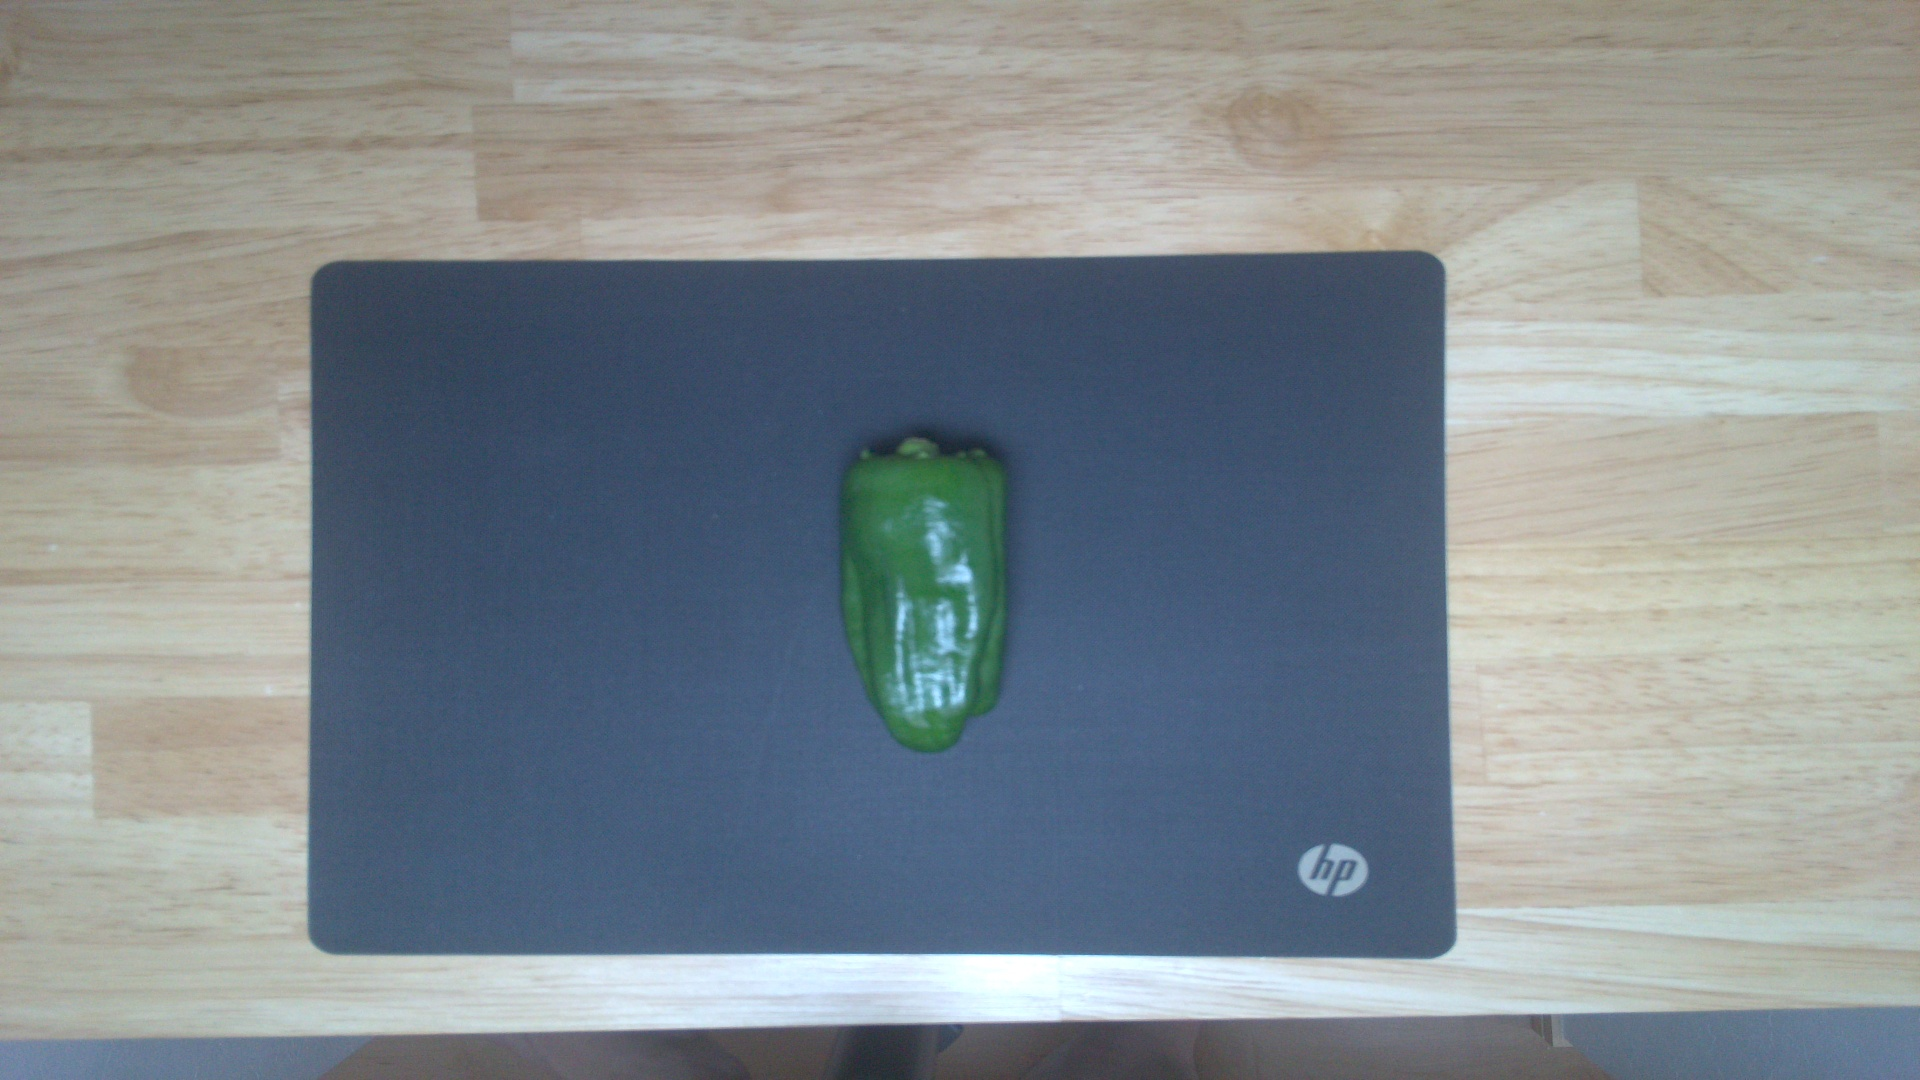Piman: (833, 430, 1015, 754)
